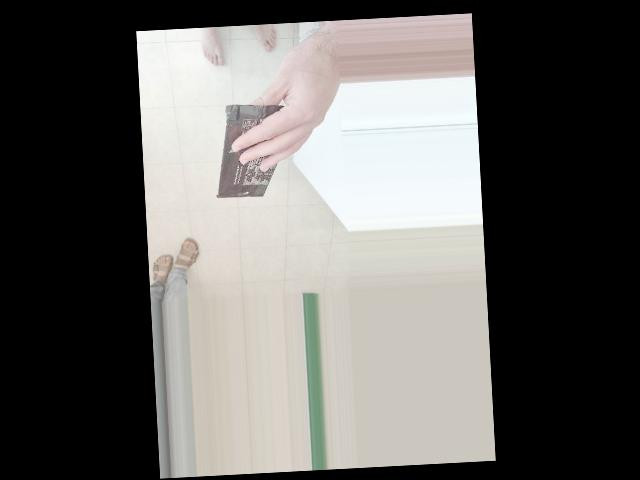chocolate: (146, 141, 253, 235)
